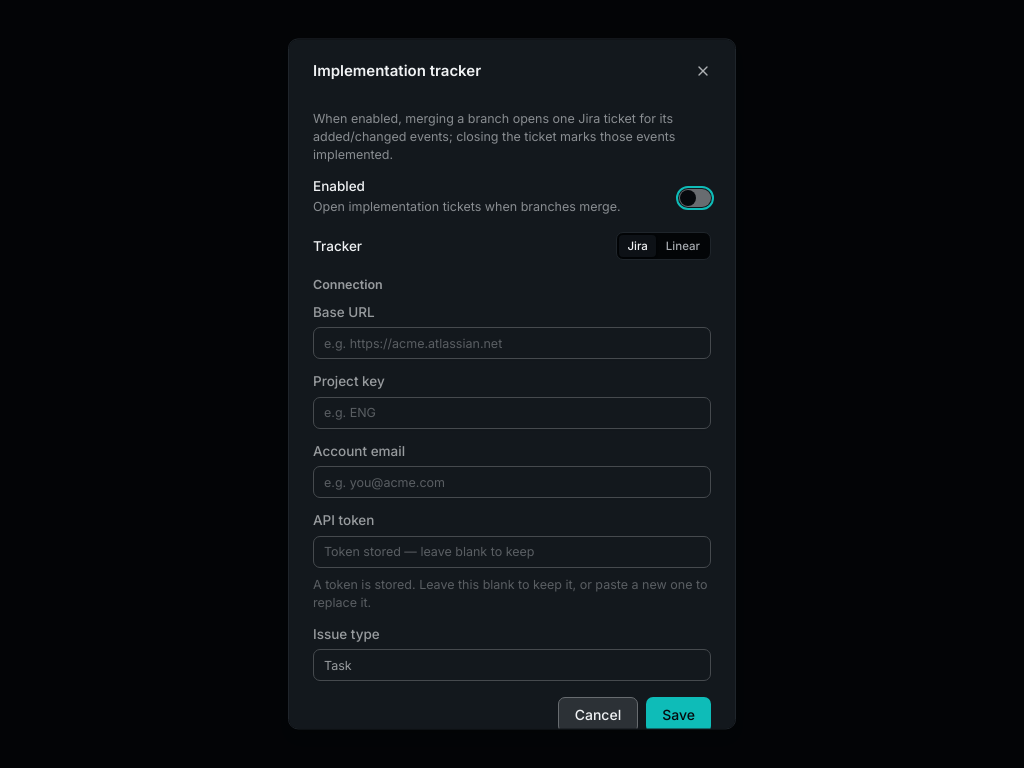
it: TrackerConfigDialog › requires the connection fields before a tracker can be enabled
Click the switch named "Enabled" at (695, 198), box [679,189,711,207]
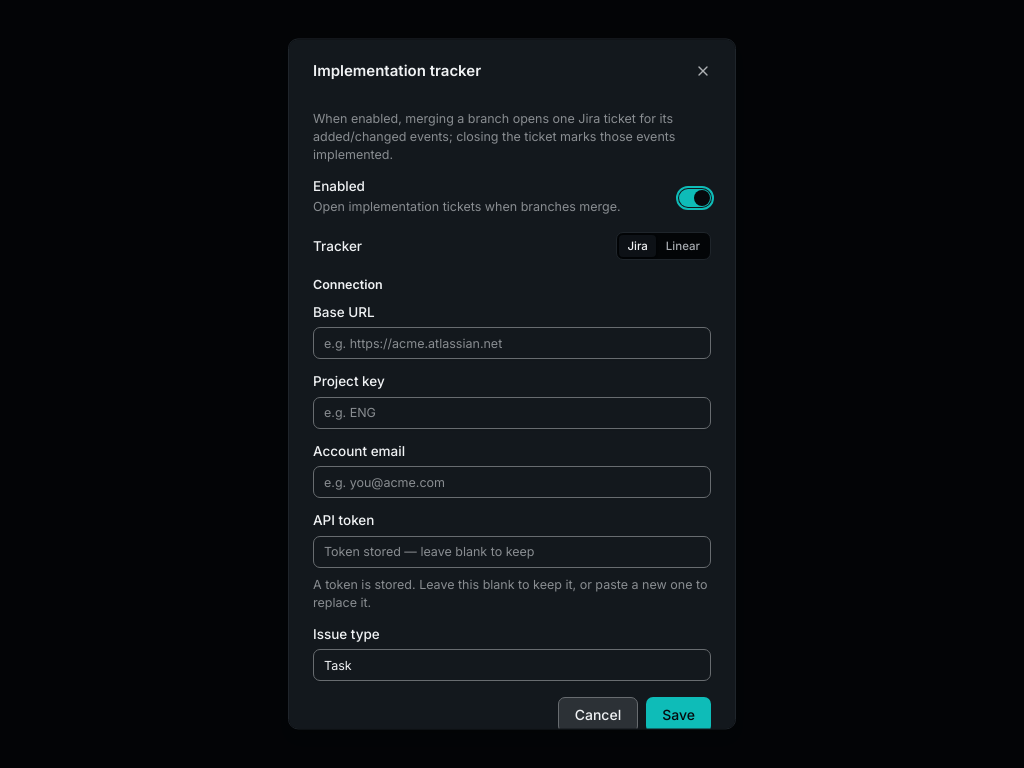
Click the button "Save" at (679, 715), box [646,697,711,733]
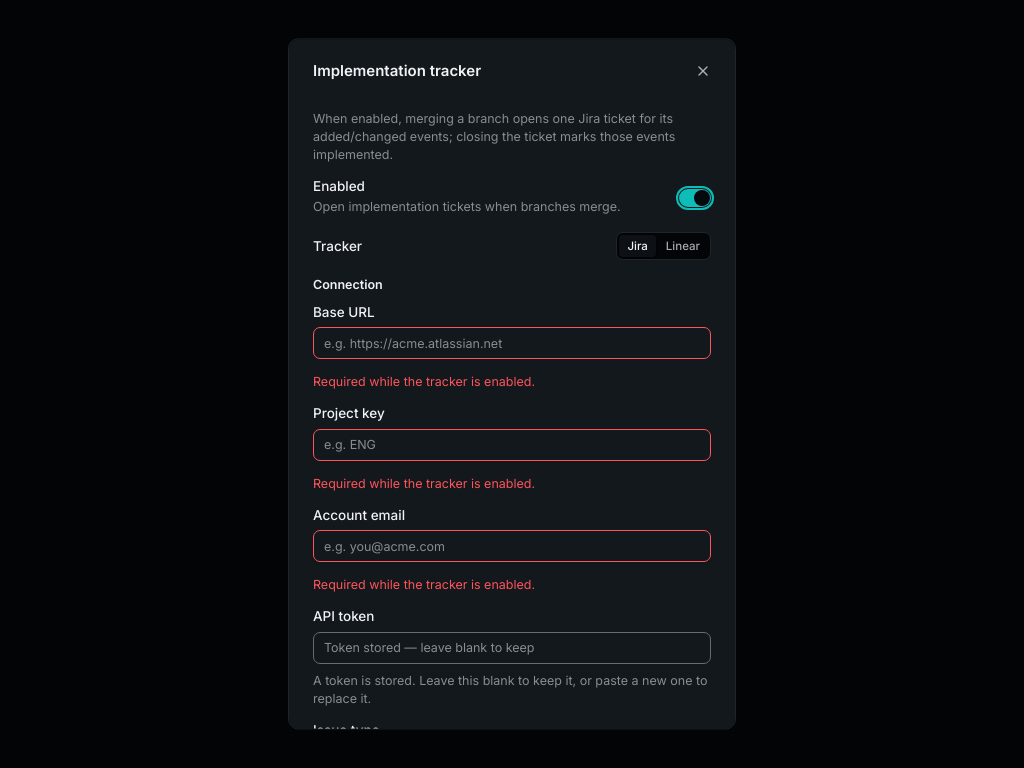
Now the text "Required while the tracker is enabled." is shown 3 times, box [313,374,535,389]; [313,476,535,491]; [313,578,535,593]
